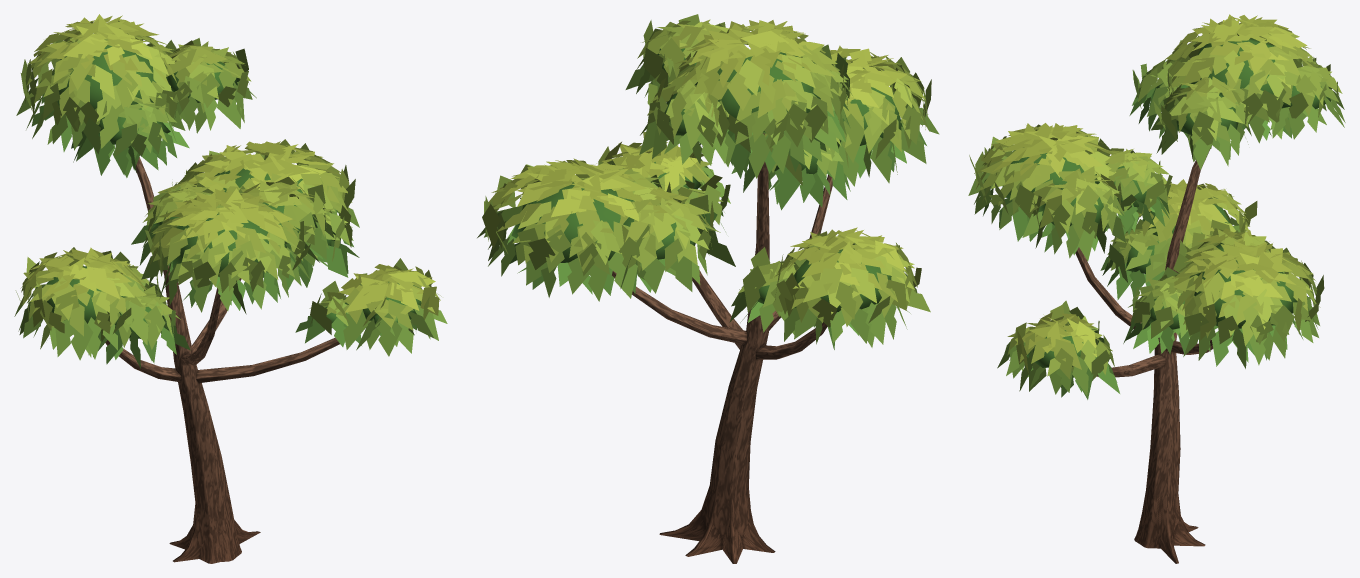
The model's file is tree_old_1.glb.
The picture shows the model from 3 angles, left to right: view 1: azimuth 30°, elevation 25°; view 2: azimuth 150°, elevation 25°; view 3: azimuth 270°, elevation 25°; orthographic projection. The views are drawn at different scales.
Visible parts, largest first — view 1: tree_old_1; view 2: tree_old_1; view 3: tree_old_1.
Part boxes in pixels (box(x1,y1,x2,y2)): tree_old_1: box(14, 14, 447, 563); tree_old_1: box(477, 14, 939, 563); tree_old_1: box(968, 14, 1345, 563).
Size of the model in its own units: 6.4 by 8.8 by 6.2.
Materials: 2 (2 with a texture image).
